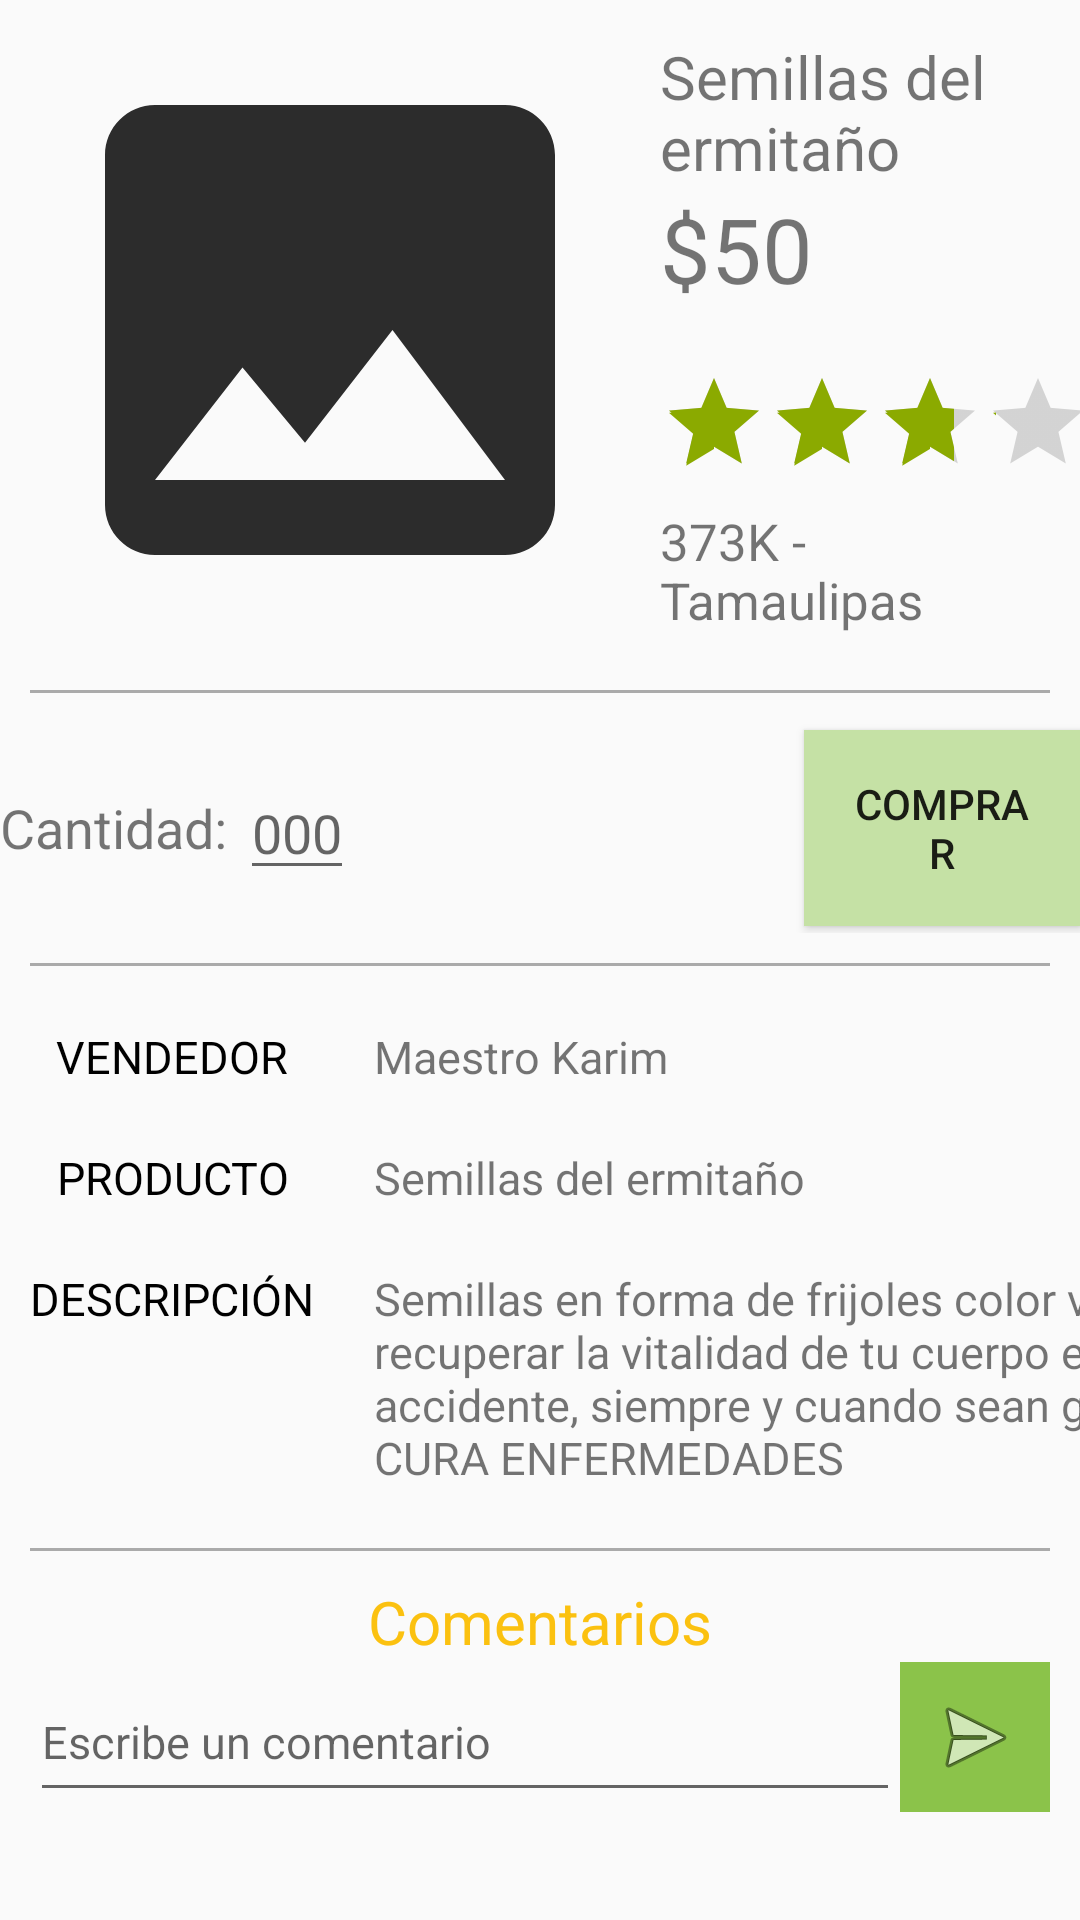

Named icons in this screenshot (1080px×1920px) and their centers, (x,y):
send: (975,1737)
